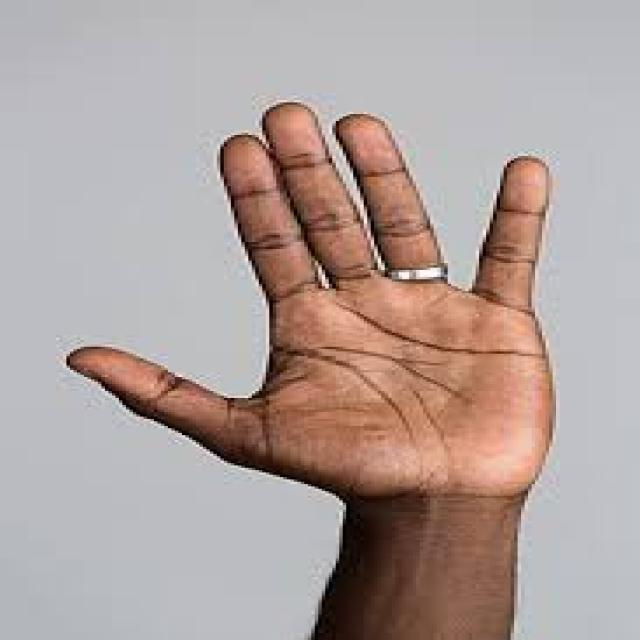hand: (40, 99, 578, 514)
